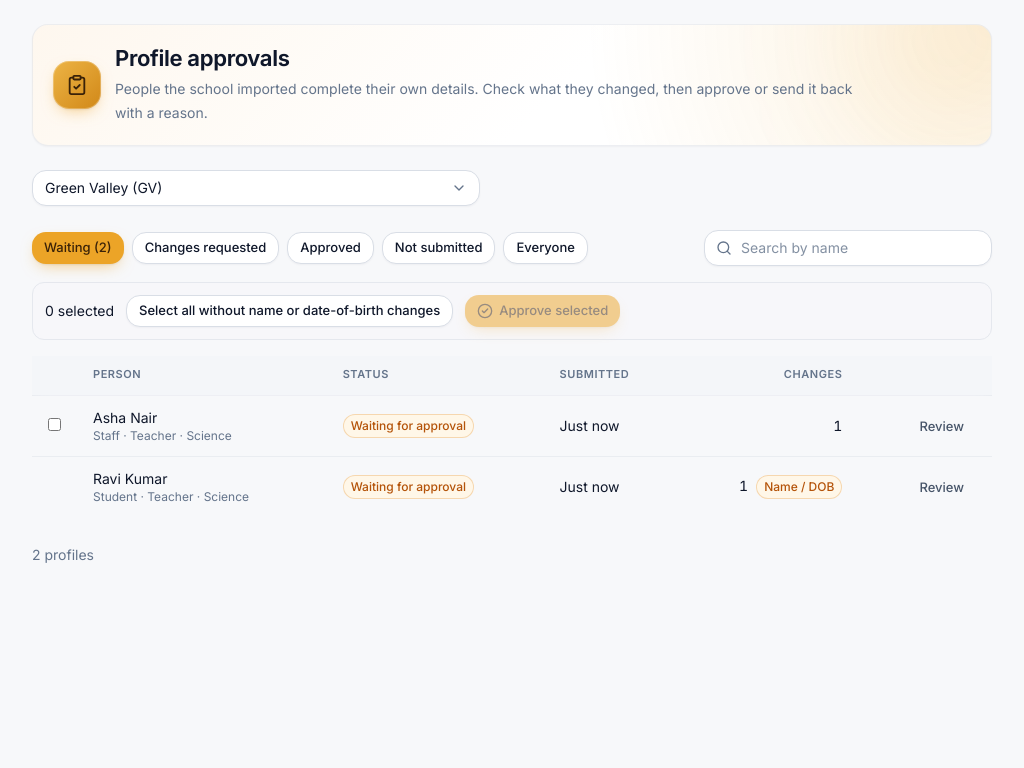
Test case: Profile approvals › bulk approves only profiles without protected changes and shows what was skipped
The image size is (1024, 768).
Expected: the number of checkboxes is 1, [48, 418, 61, 431]
Click the button "Select all without name or date-of-birth changes" at x=290, y=310, box [126, 294, 453, 326]
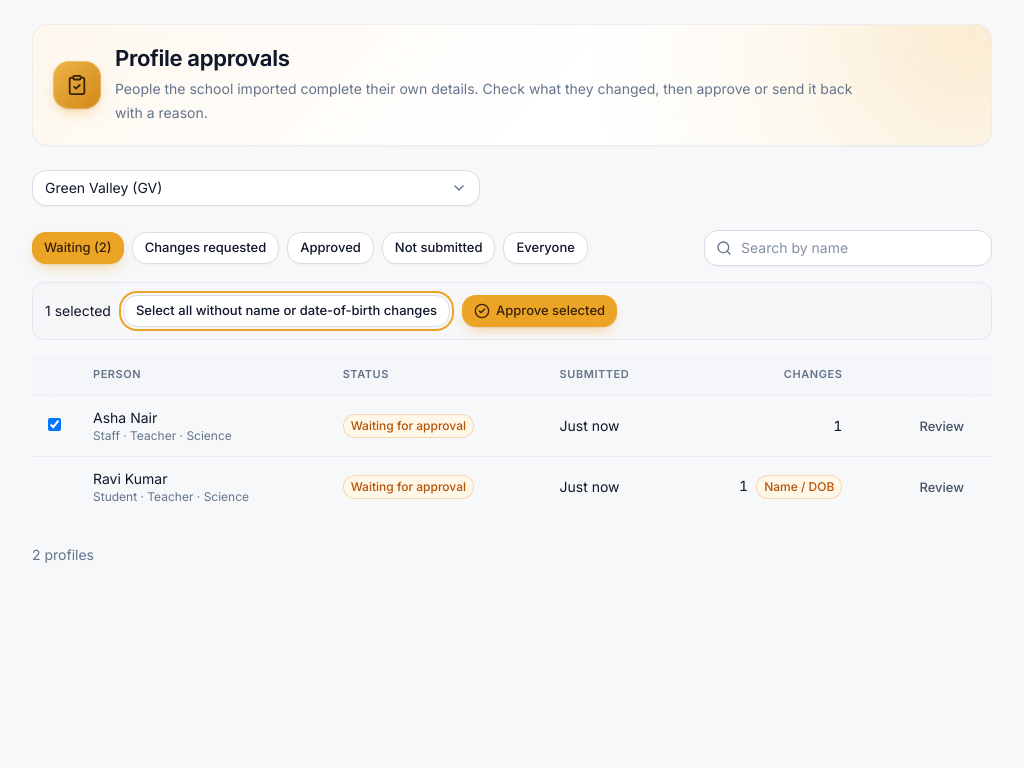
Click the button "Approve selected" at x=540, y=310, box [462, 294, 617, 326]
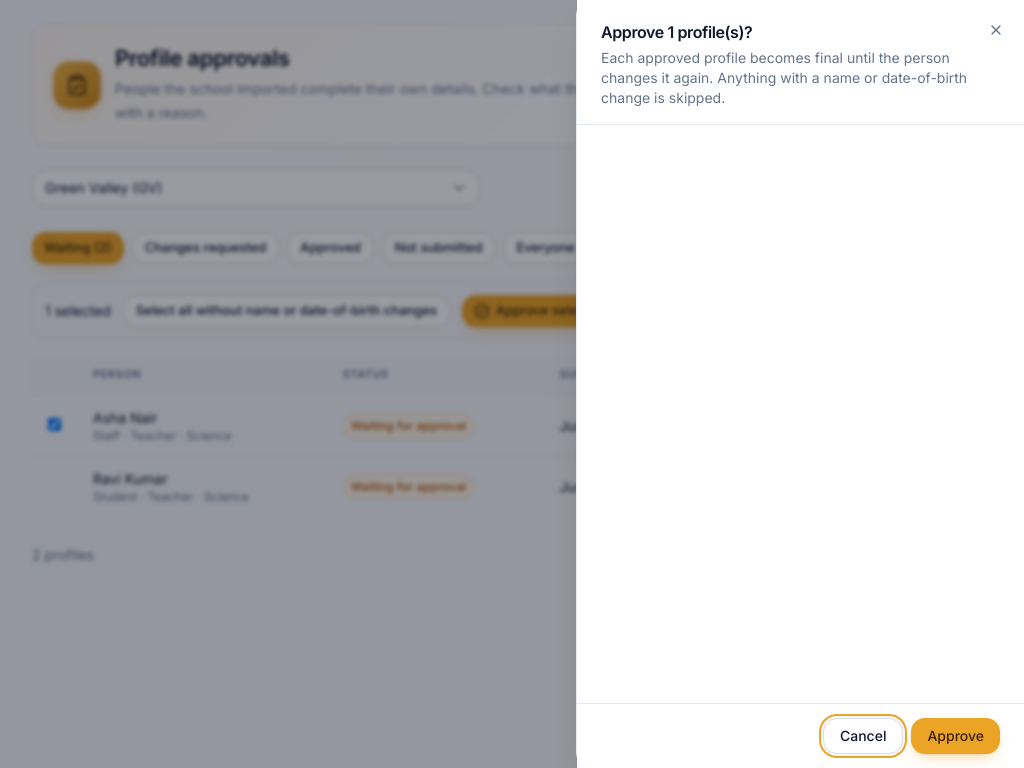
Click the button "Approve" at x=956, y=736, box [911, 718, 1000, 754]
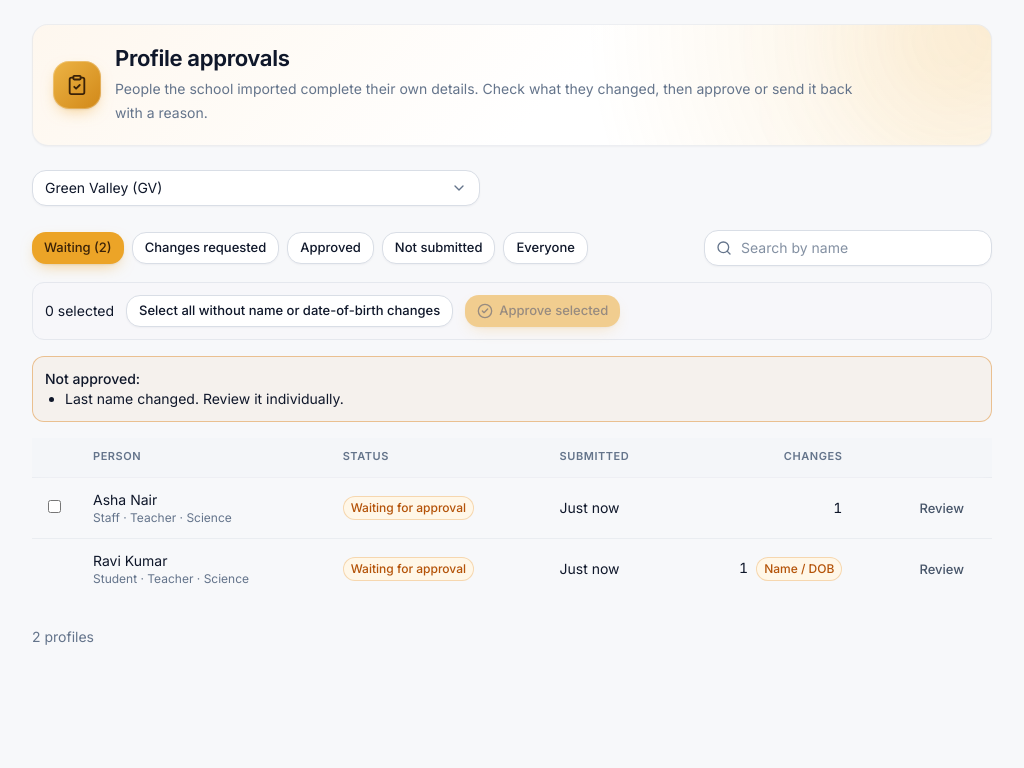
Expected: the list item "Last name changed. Review it individually." is shown, [65, 390, 344, 406]
